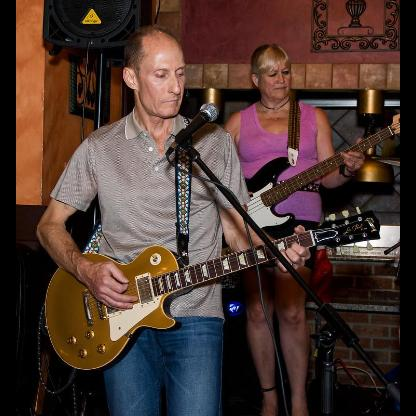bass: (236, 112, 400, 232)
guitar: (41, 208, 382, 372)
